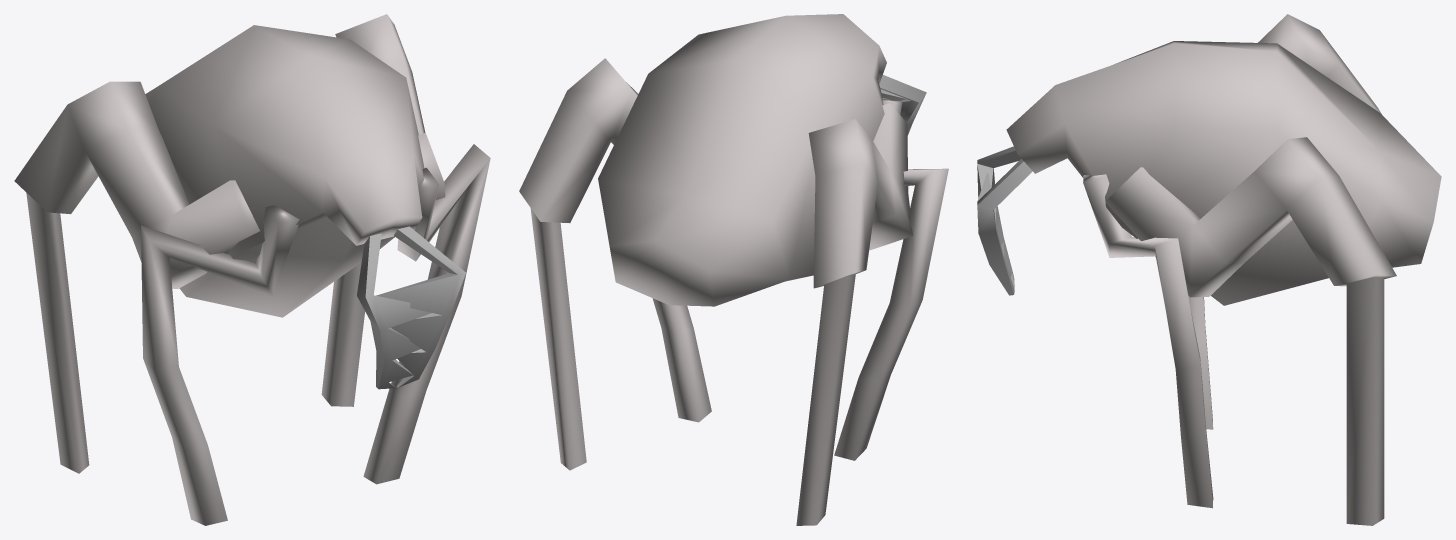
Rendered from flea.fbx.
The picture shows the model from 3 angles, left to right: view 1: azimuth 30°, elevation 25°; view 2: azimuth 150°, elevation 25°; view 3: azimuth 270°, elevation 25°; orthographic projection. The views are drawn at different scales.
Parts seen in each view (by area): view 1: flea_Mesh_001; view 2: flea_Mesh_001; view 3: flea_Mesh_001.
Boxes of the visible parts, <box> form: flea_Mesh_001: <box>14,14,490,525</box>; flea_Mesh_001: <box>519,14,948,525</box>; flea_Mesh_001: <box>977,14,1441,525</box>.
Size of the model in its own units: 26.03 by 30.45 by 30.46.
